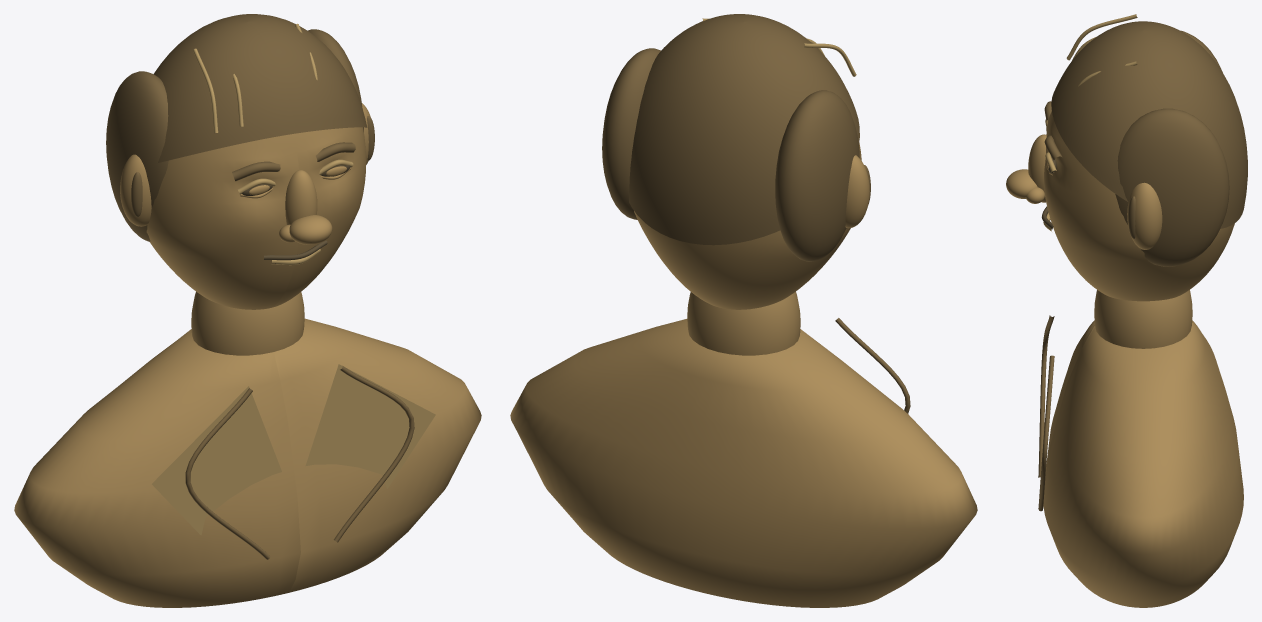
File: dilma.glb
3 views of the same model, side by side, from view 1: azimuth 30°, elevation 25°; view 2: azimuth 150°, elevation 25°; view 3: azimuth 270°, elevation 25° (orthographic). The views are drawn at different scales.
Parts seen in each view (by area): view 1: dilma; view 2: dilma; view 3: dilma.
Boxes of the visible parts, bbox=[...] form: dilma: bbox=[14, 14, 481, 607]; dilma: bbox=[510, 14, 977, 607]; dilma: bbox=[1006, 14, 1247, 607].
Size of the model in its own units: 1.22 by 1.38 by 0.5897.
